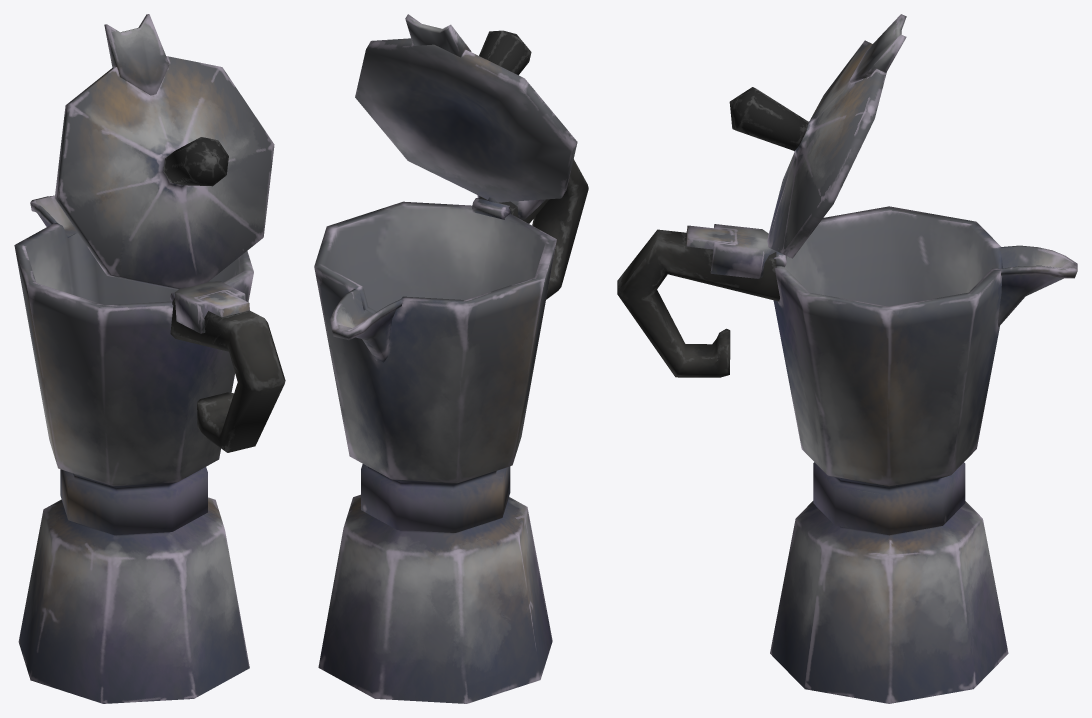
The model's file is SM_broc_de_lait.fbx.
3 renders of one model, left to right at view 1: azimuth 30°, elevation 25°; view 2: azimuth 150°, elevation 25°; view 3: azimuth 270°, elevation 25°, orthographic.
Visible parts, largest first — view 1: SM_broc_de_lait_haut, SM_broc_de_lait_bas; view 2: SM_broc_de_lait_haut, SM_broc_de_lait_bas; view 3: SM_broc_de_lait_haut, SM_broc_de_lait_bas.
Part boxes in pixels (x1,y1,x2,y2): SM_broc_de_lait_haut: (14,195,285,703); SM_broc_de_lait_bas: (54,14,274,289); SM_broc_de_lait_haut: (314,159,588,703); SM_broc_de_lait_bas: (355,14,577,202); SM_broc_de_lait_haut: (617,206,1077,703); SM_broc_de_lait_bas: (729,14,906,258).
Bounding box in the file's own units: 211 × 594 × 394.
